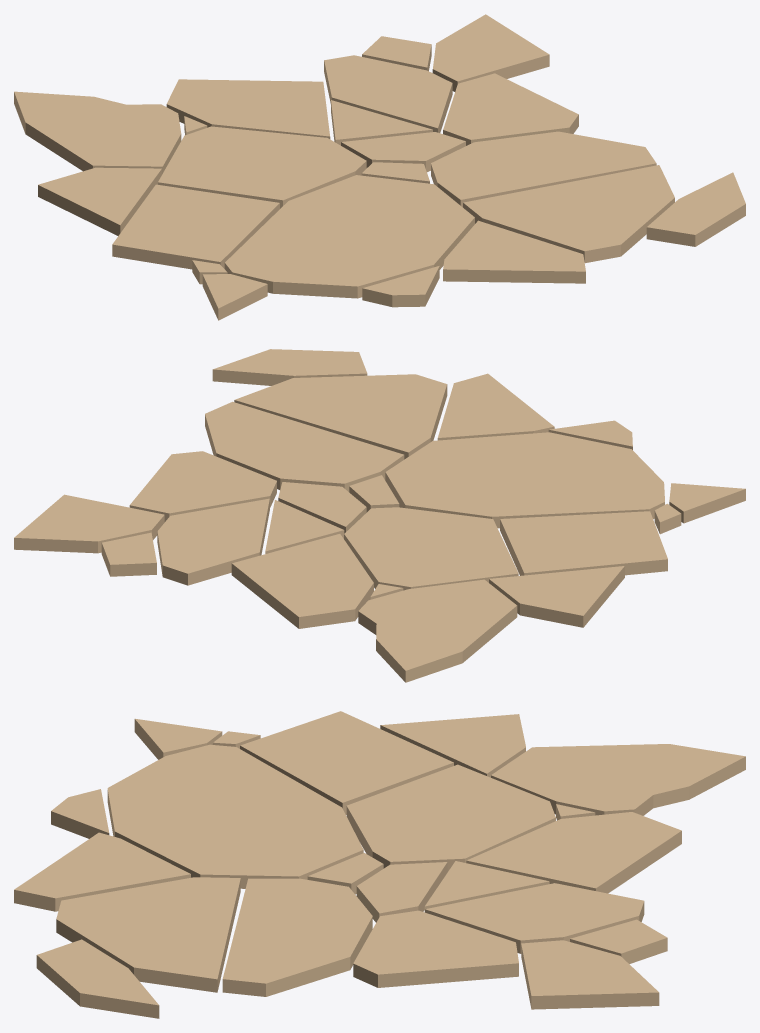
The model's file is ground-cracked_sand.glb.
The picture shows the model from 3 angles, top to bottom: view 1: azimuth 30°, elevation 25°; view 2: azimuth 150°, elevation 25°; view 3: azimuth 270°, elevation 25°; orthographic projection. The views are drawn at different scales.
Visible parts, largest first — view 1: ground-cracked_sand; view 2: ground-cracked_sand; view 3: ground-cracked_sand.
Boxes of the visible parts, left/top/right/bottom form: ground-cracked_sand: left=14, top=14, right=745, bottom=320; ground-cracked_sand: left=14, top=349, right=745, bottom=682; ground-cracked_sand: left=14, top=711, right=745, bottom=1018.
Size of the model in its own units: 4.56 by 0.0969 by 4.79.
1 material, 1 textured.
